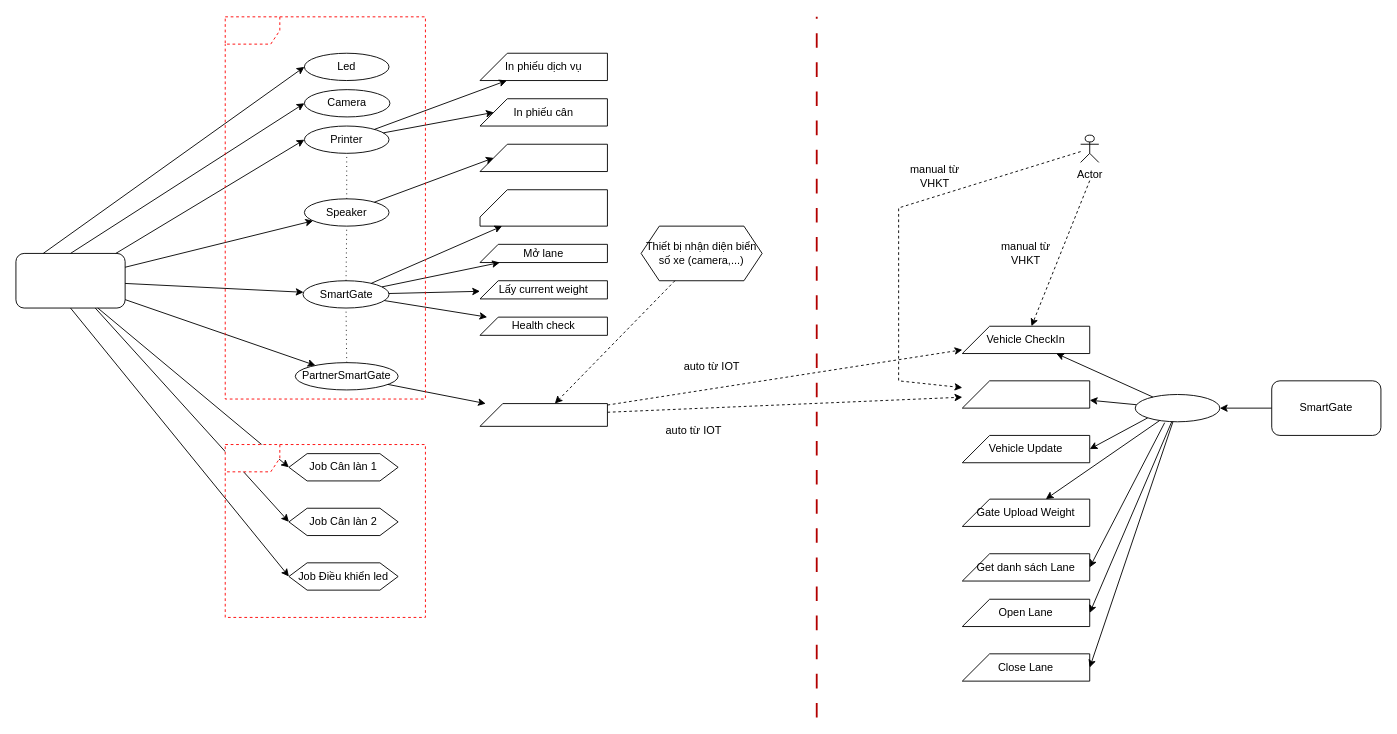
The diagram is 1397 pixels wide and 734 high, and some of its shapes have lost their labels. Here are the shapes that lost their labels. From the top down, the centre of each, then its label:
At (543,157): "Đọc text".
At (324,207): "Chức năng".
At (543,207): "Mở gate (có xử lý cân)".
At (70,280): "iot-p roxy".
At (543,414): "UploadVehicleInfor".
At (1025,394): "Vehicle CheckOut".
At (1177,408): "Gate API".
At (324,530): "Task định kỳ".
